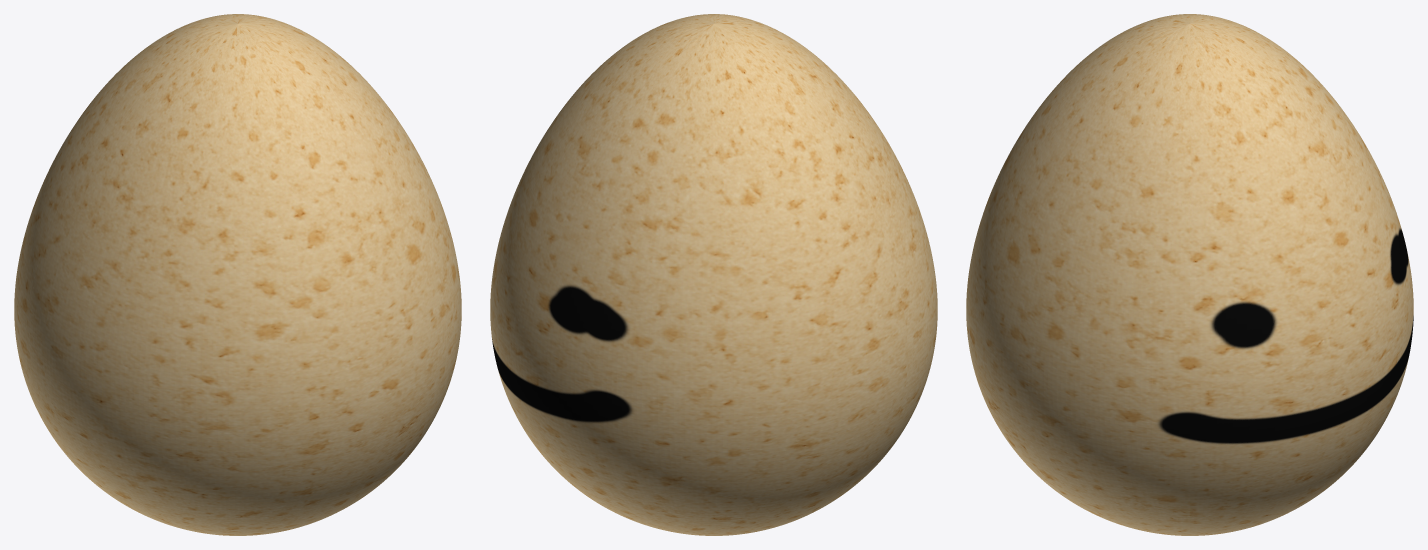
The model's file is Egg.fbx.
3 views of the same model, side by side, from view 1: azimuth 30°, elevation 25°; view 2: azimuth 150°, elevation 25°; view 3: azimuth 270°, elevation 25° (orthographic).
Parts seen in each view (by area): view 1: Sphere; view 2: Sphere; view 3: Sphere.
Boxes of the visible parts, bbox=[...] form: Sphere: bbox=[14, 14, 461, 535]; Sphere: bbox=[490, 14, 937, 535]; Sphere: bbox=[966, 14, 1413, 535].
Bounding box in the file's own units: 98.41 × 119 × 98.41.
